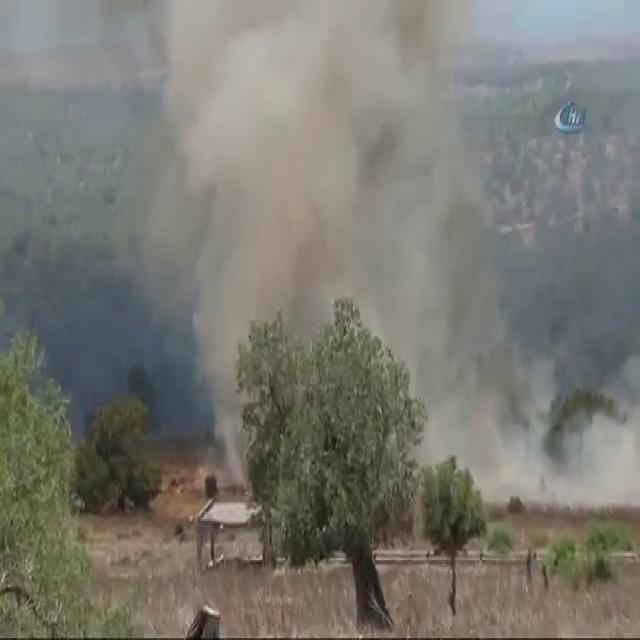Smoke: (101, 1, 485, 330), (437, 334, 640, 515), (192, 287, 258, 486)
